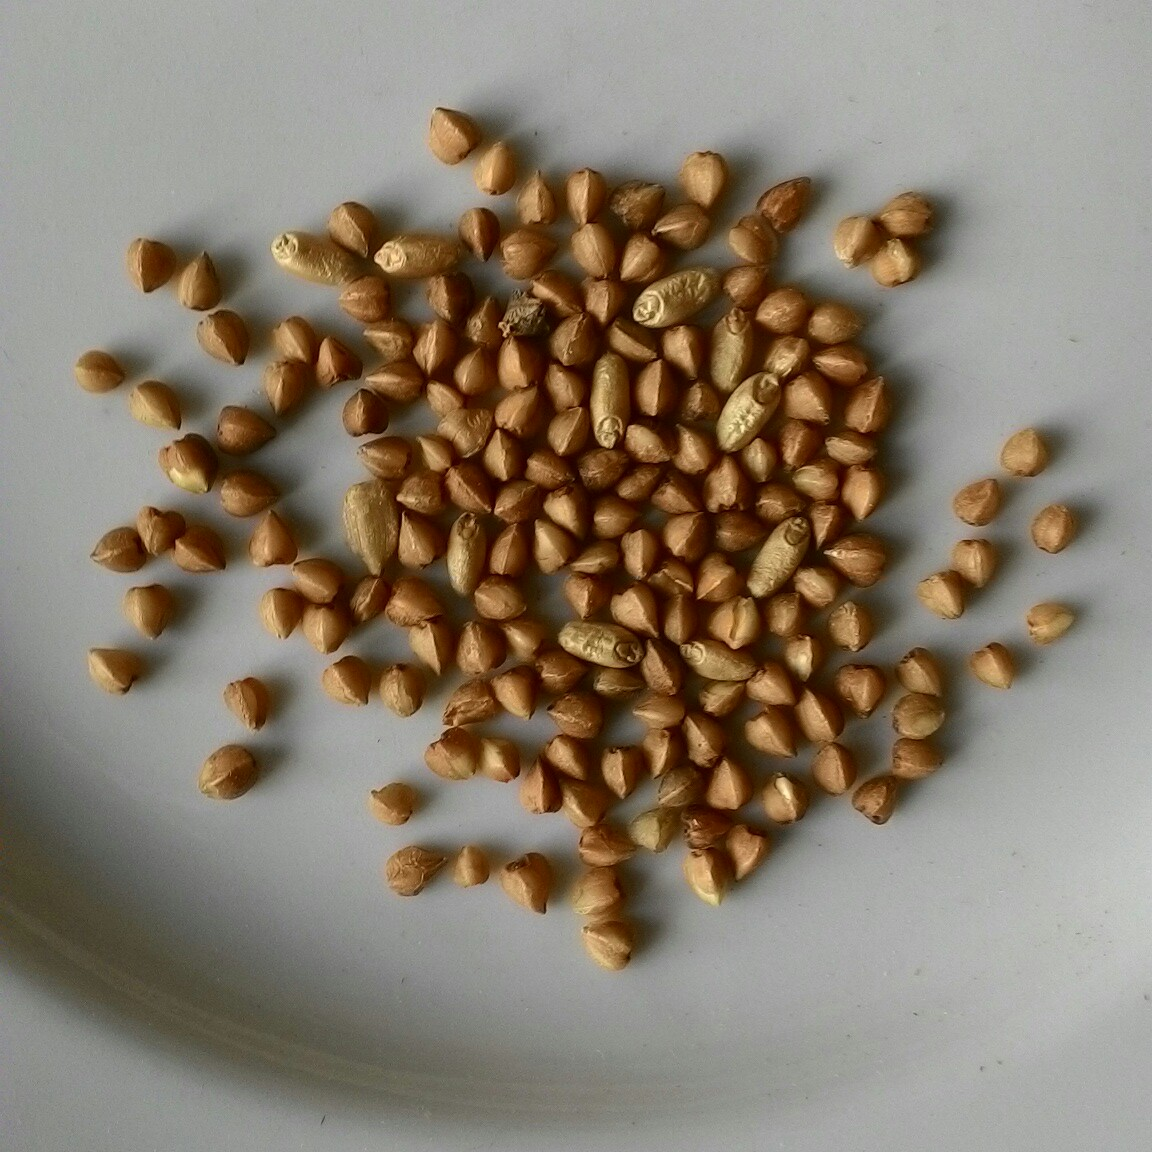semka: (337, 474, 405, 581)
wheat: (263, 222, 370, 296), (625, 255, 729, 331), (704, 364, 784, 458), (743, 507, 814, 606), (581, 342, 636, 460), (364, 224, 466, 285), (440, 501, 495, 608), (700, 297, 755, 400), (672, 628, 762, 688), (554, 614, 647, 672)
